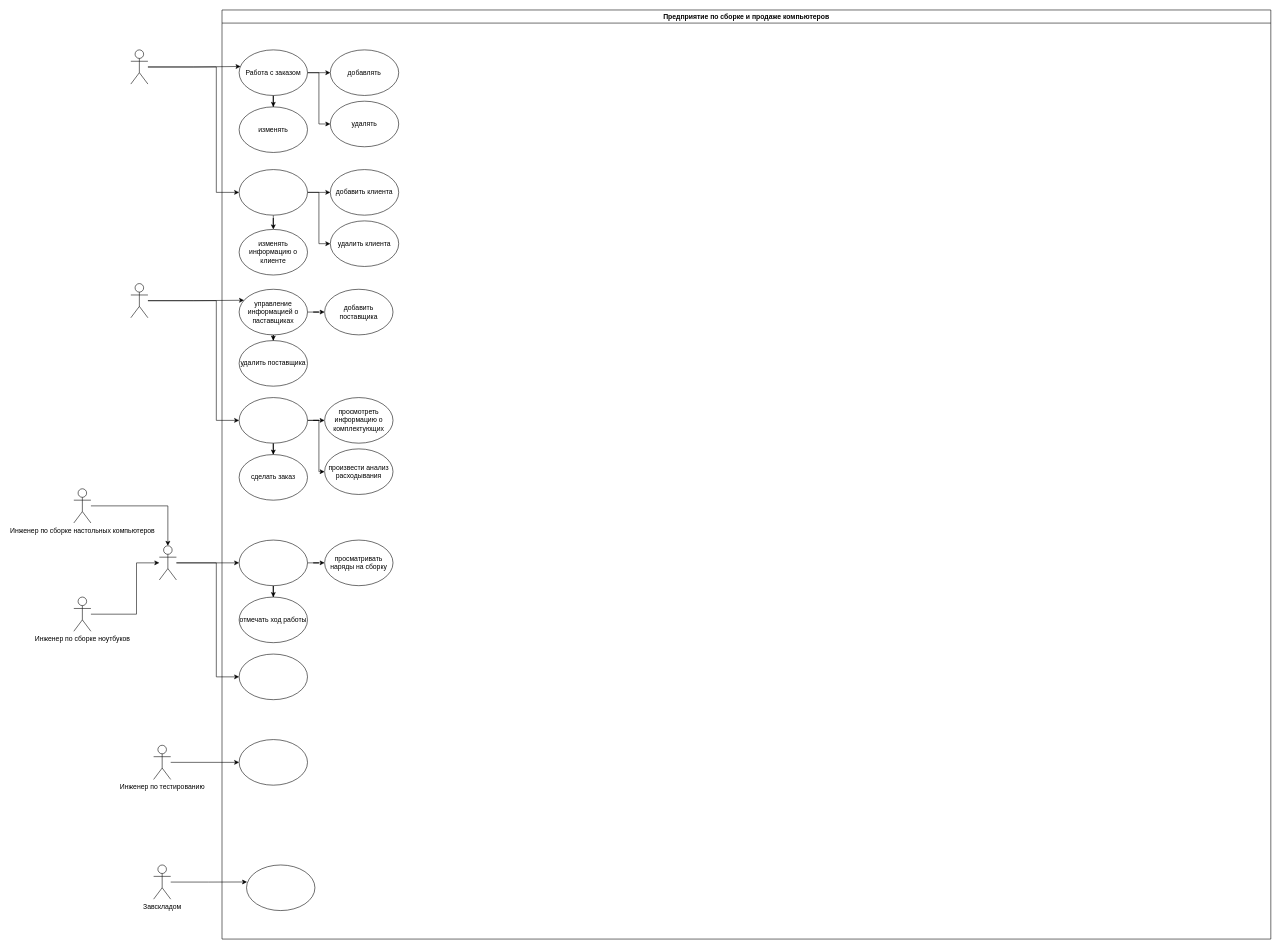
The diagram is 1281 pixels wide and 949 high, and some of its shapes have lost their labels. The shapes that lost their labels are listed below. From the top down, each one's centre as x and y in pixels, then its label:
(139,66): Менеджер по работе с клиентами
(273,192): управления информации о клиенте
(139,300): Менеджер по снабжению
(273,420): управление информации о комплектующих
(167,562): инженер по сборке
(273,563): сборка компьютеров
(273,677): требование необходимых комплектующих
(273,762): тестирование компьютера на работу способность
(280,887): учет поступления и выдачи комплектующих
